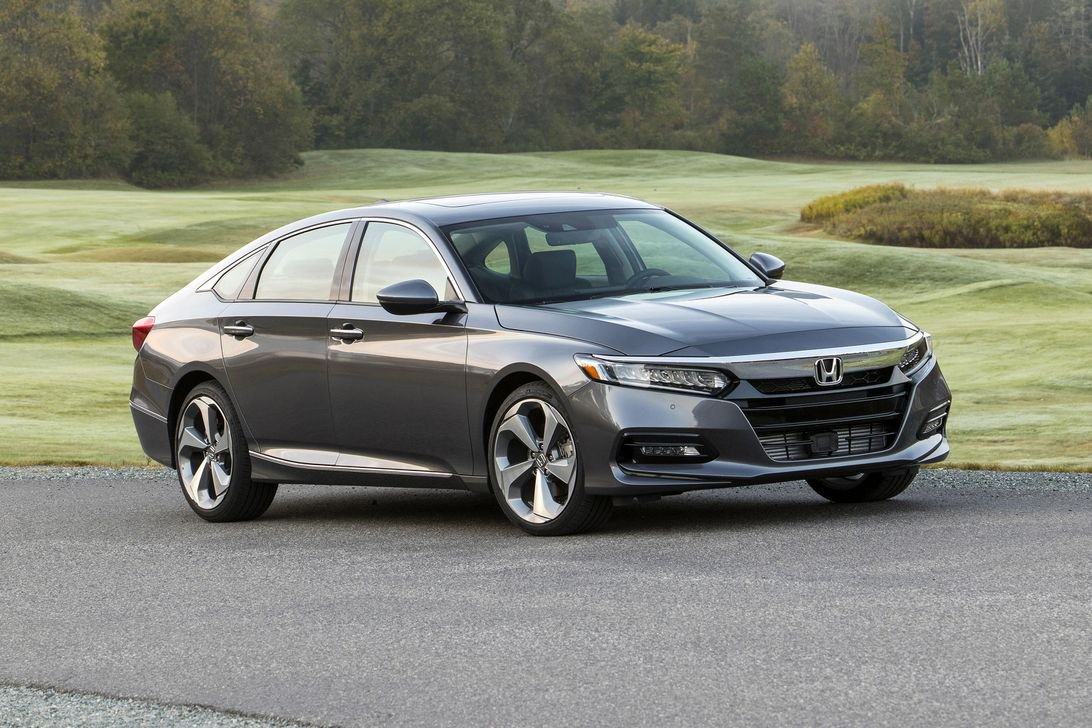car: (112, 189, 948, 520)
